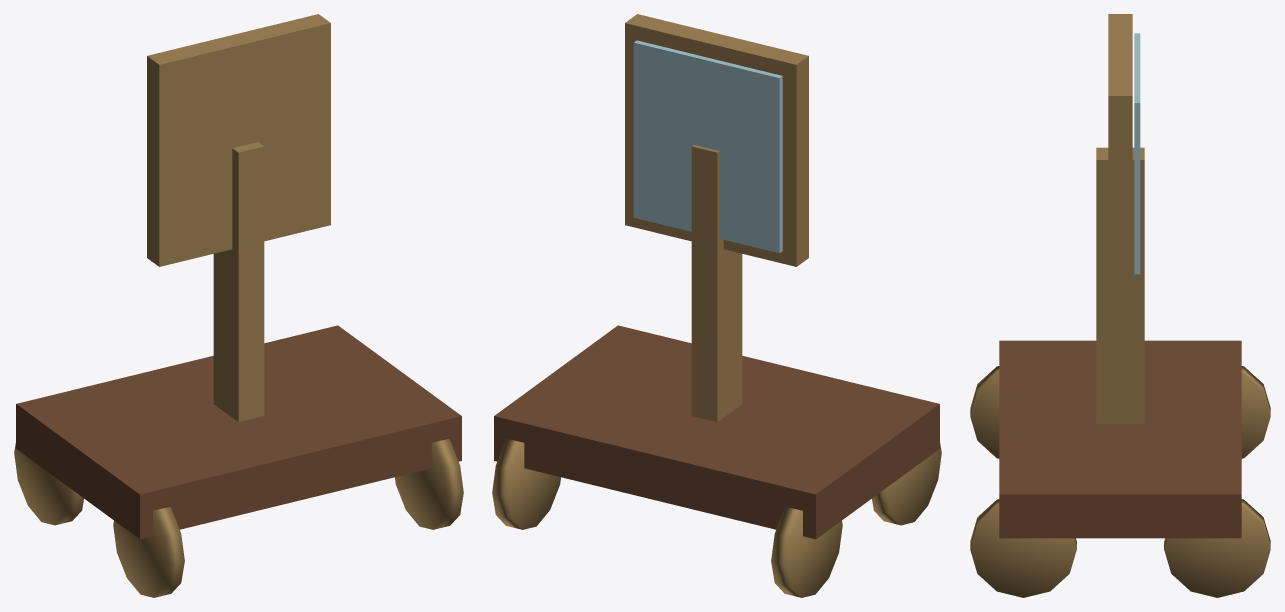
File: lens_carriage.glb
3 renders of one model, left to right at view 1: azimuth 30°, elevation 25°; view 2: azimuth 150°, elevation 25°; view 3: azimuth 270°, elevation 25°, orthographic. The views are drawn at different scales.
Visible parts, largest first — view 1: cart, rim, stand, wheel (×3); view 2: cart, glass, rim, stand, wheel (×3); view 3: cart, wheel (×4), stand, rim, glass.
Boxes of the visible parts, <box> form: cart: <box>16,325,461,539</box>; rim: <box>147,14,330,266</box>; stand: <box>213,142,264,421</box>; wheel (×3): <box>14,438,463,597</box>; cart: <box>494,325,939,539</box>; glass: <box>633,40,782,253</box>; rim: <box>625,14,808,266</box>; stand: <box>691,145,742,421</box>; wheel (×3): <box>492,438,941,597</box>; cart: <box>999,340,1241,538</box>; wheel (×4): <box>970,366,1270,597</box>; stand: <box>1096,147,1144,423</box>; rim: <box>1108,14,1132,293</box>; glass: <box>1134,33,1140,274</box>.
Bounding box in the file's own units: 1.5 × 2.15 × 1.24.
